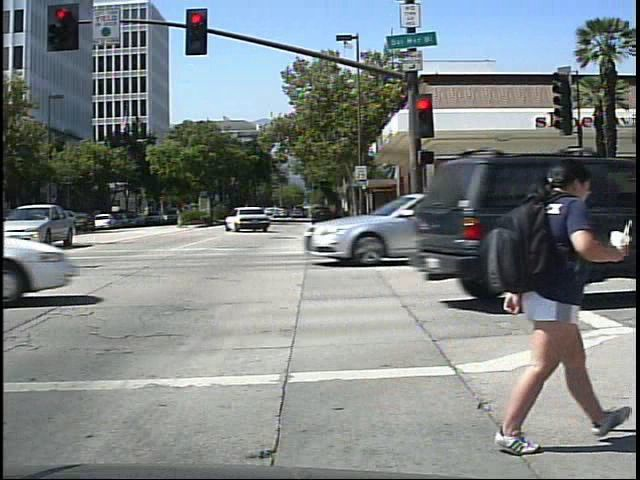person: (490, 128, 625, 460)
